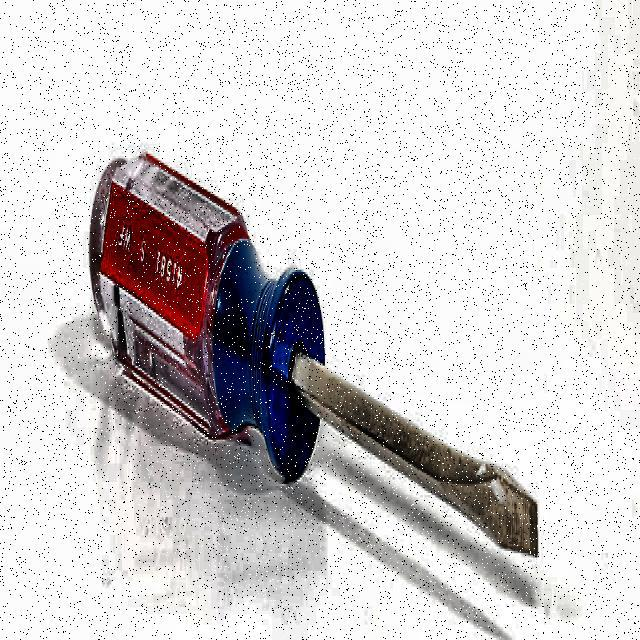screwdriver: (90, 153, 538, 555)
